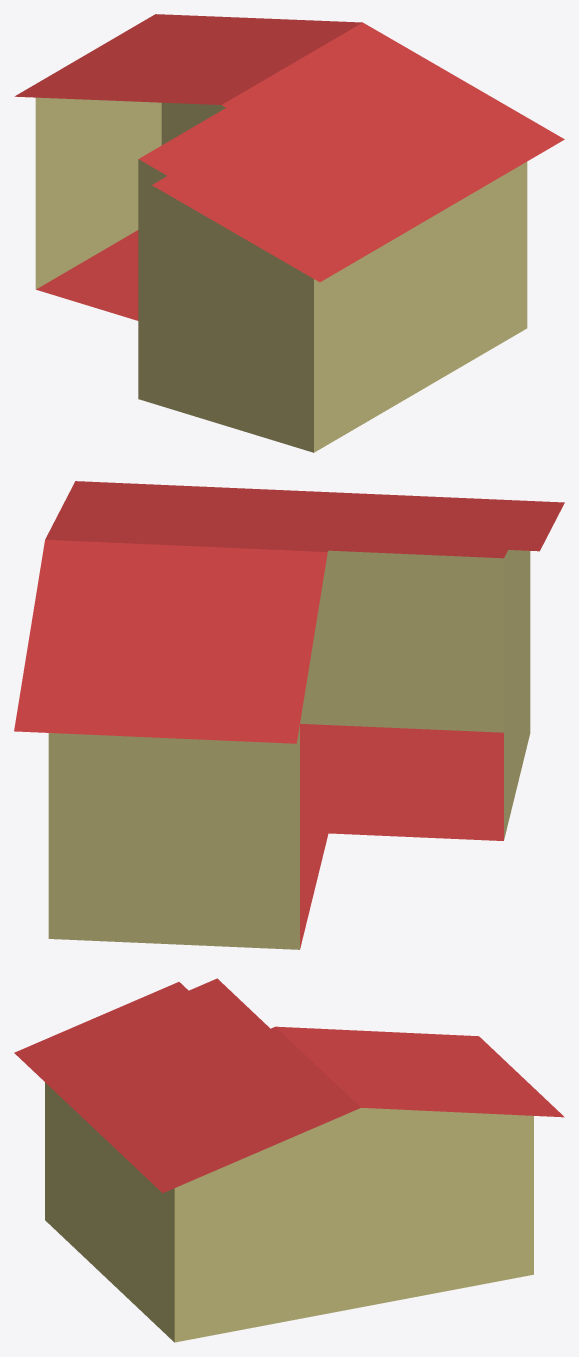
3 renders of one model, top to bottom at view 1: azimuth 30°, elevation 25°; view 2: azimuth 150°, elevation 25°; view 3: azimuth 270°, elevation 25°, orthographic. The views are drawn at different scales.
Bounding box in the file's own units: 12.99 × 17.61 × 7.42.
